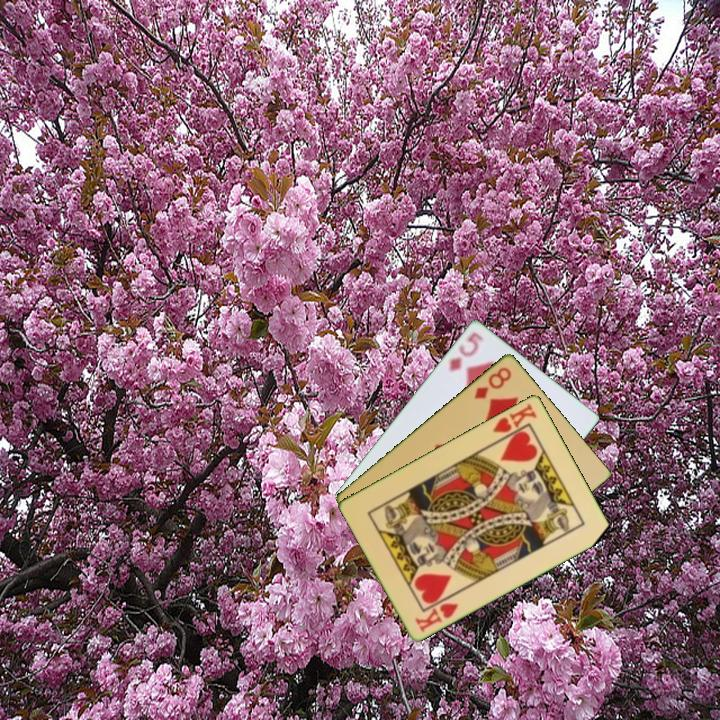5d: (445, 328, 487, 374)
8d: (470, 363, 514, 402)
Kh: (489, 400, 540, 444), (411, 599, 462, 635)
